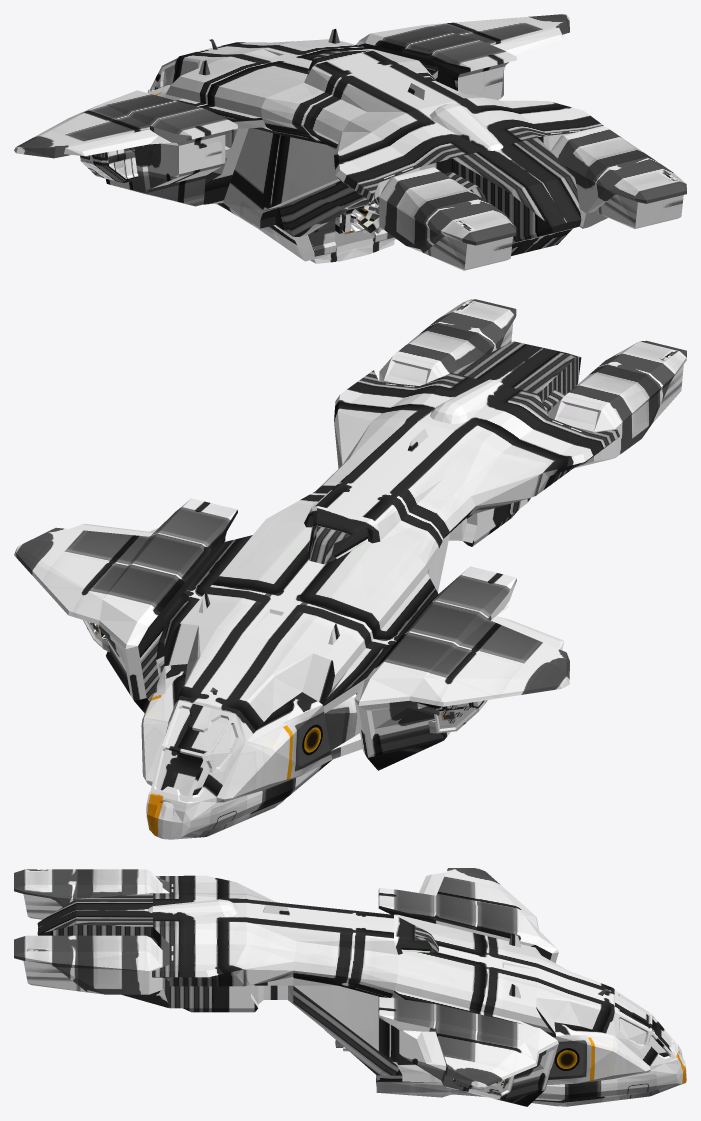
File: Pelican.fbx
The picture shows the model from 3 angles, top to bottom: view 1: azimuth 30°, elevation 25°; view 2: azimuth 150°, elevation 25°; view 3: azimuth 270°, elevation 25°; orthographic projection. The views are drawn at different scales.
Visible parts, largest first — view 1: hull_base1_006.002, hull_base1_003.002, hull_base1_004.002, hull_base1_002.002, hull_base1_005.002, hull_base1_001.018, hull_base1_010.002, hull_stand.002, hatch_base.002; view 2: hull_base1_006.002, hull_base1_003.002, hull_base1_004.002, hull_base1_005.002, hull_base1_002.002, hull_base1_001.018, f_blackout.002, hull_stand.002; view 3: hull_base1_006.002, hull_base1_003.002, hull_base1_005.002, hull_base1_001.018, hull_base1_004.002, hull_base1_002.002, hull_base1_010.002, f_blackout.002, hull_stan0.002.
Boxes of the visible parts, left/top/right/bottom form: hull_base1_006.002: left=147, top=29, right=463, bottom=260; hull_base1_003.002: left=334, top=93, right=603, bottom=255; hull_base1_004.002: left=14, top=90, right=237, bottom=206; hull_base1_002.002: left=379, top=167, right=516, bottom=270; hull_base1_005.002: left=356, top=14, right=569, bottom=99; hull_base1_001.018: left=551, top=125, right=686, bottom=228; hull_base1_010.002: left=275, top=181, right=396, bottom=263; hull_stand.002: left=80, top=147, right=138, bottom=182; hatch_base.002: left=308, top=218, right=393, bottom=256; hull_base1_006.002: left=141, top=419, right=475, bottom=839; hull_base1_003.002: left=334, top=341, right=619, bottom=546; hull_base1_004.002: left=354, top=566, right=569, bottom=770; hull_base1_005.002: left=14, top=498, right=237, bottom=713; hull_base1_002.002: left=547, top=340, right=686, bottom=468; hull_base1_001.018: left=379, top=299, right=516, bottom=385; f_blackout.002: left=156, top=708, right=235, bottom=796; hull_stand.002: left=428, top=700, right=487, bottom=733; hull_base1_006.002: left=246, top=899, right=686, bottom=1106; hull_base1_003.002: left=37, top=875, right=296, bottom=1012; hull_base1_005.002: left=378, top=997, right=558, bottom=1106; hull_base1_001.018: left=14, top=935, right=162, bottom=994; hull_base1_004.002: left=378, top=868, right=558, bottom=963; hull_base1_002.002: left=14, top=869, right=162, bottom=919; hull_base1_010.002: left=293, top=986, right=408, bottom=1095; f_blackout.002: left=618, top=996, right=671, bottom=1056; hull_stan0.002: left=453, top=1075, right=514, bottom=1096.
Bounding box in the file's own units: 76844 × 32143 × 100839.
7 materials, 7 textured.
